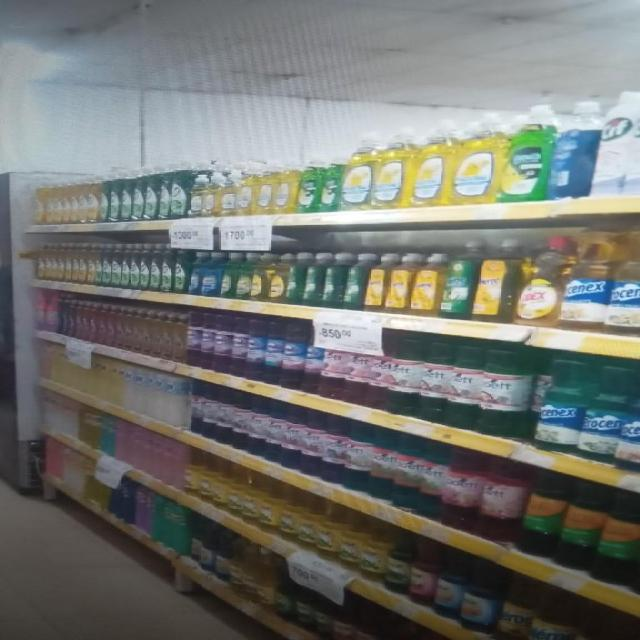magistral_con_amarillo: (456, 112, 502, 206), (414, 120, 454, 208), (375, 130, 412, 210), (341, 134, 375, 212), (274, 162, 298, 214), (189, 173, 213, 218), (255, 163, 274, 215), (237, 164, 255, 216), (217, 171, 237, 217)
